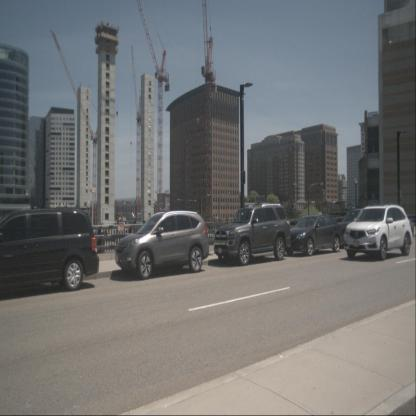vehicle-car: (0, 208, 100, 292), (115, 210, 210, 281), (213, 203, 291, 267), (344, 204, 413, 261), (283, 214, 344, 257), (334, 208, 382, 249)
